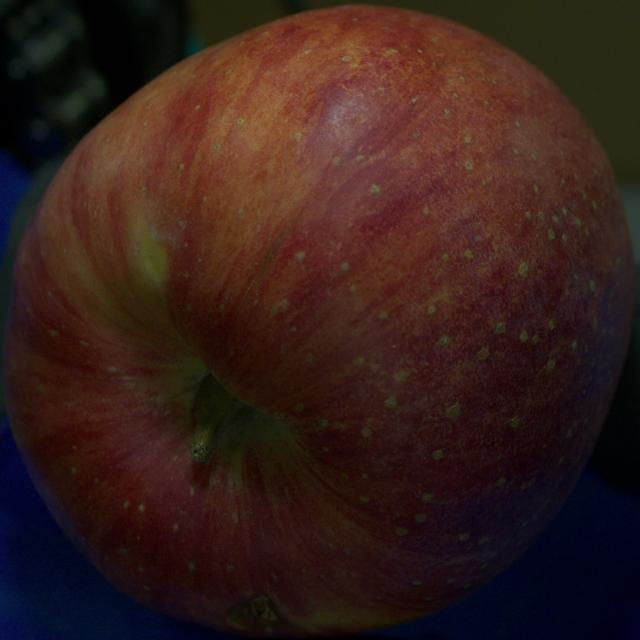apple: (2, 6, 634, 639)
rotten: (226, 594, 285, 633)
